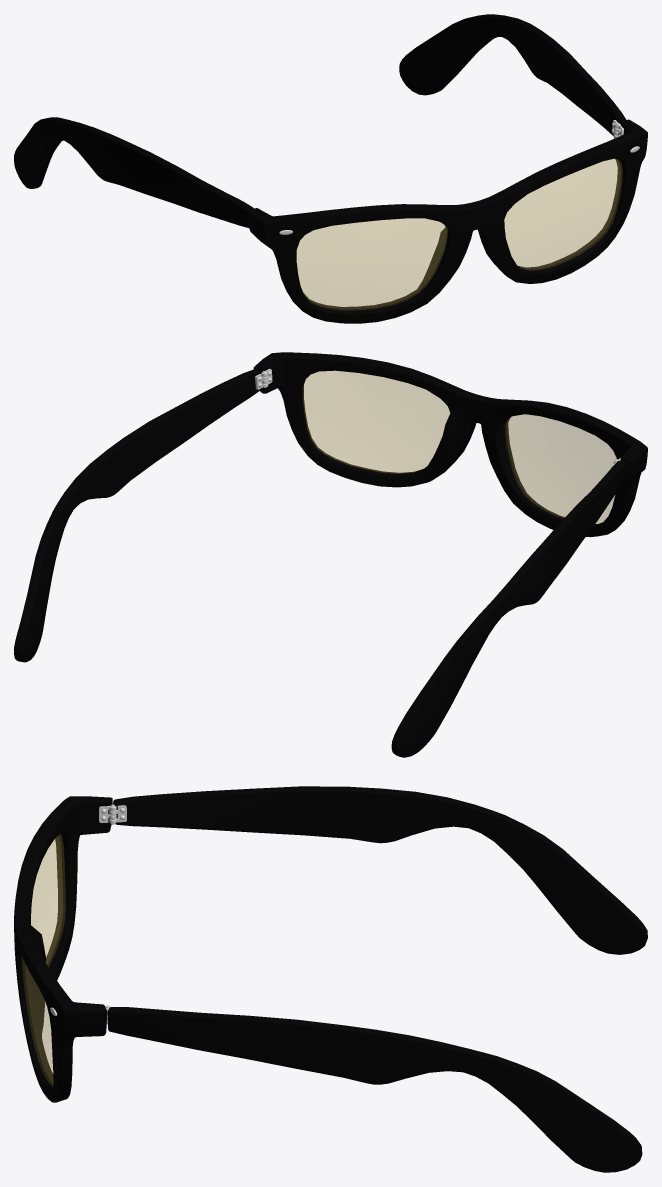
The model's file is sunglasses2.glb.
3 renders of one model, top to bottom at view 1: azimuth 30°, elevation 25°; view 2: azimuth 150°, elevation 25°; view 3: azimuth 270°, elevation 25°, orthographic. The views are drawn at different scales.
Visible parts, largest first — view 1: Glasses_Glasses_frame_0, Glass; view 2: Glasses_Glasses_frame_0, Glass; view 3: Glasses_Glasses_frame_0, Glass, Glasses_Glasses_metal_0.
Boxes of the visible parts, x1=… form: Glasses_Glasses_frame_0: x1=14, y1=14, x2=647, y2=323; Glass: x1=297, y1=159, x2=622, y2=310; Glasses_Glasses_frame_0: x1=14, y1=352, x2=647, y2=757; Glass: x1=303, y1=371, x2=616, y2=523; Glasses_Glasses_frame_0: x1=14, y1=786, x2=647, y2=1172; Glass: x1=22, y1=834, x2=65, y2=1086; Glasses_Glasses_metal_0: x1=50, y1=804, x2=126, y2=1024.
Bounding box in the file's own units: 0.1543 × 0.0466 × 0.1659.
